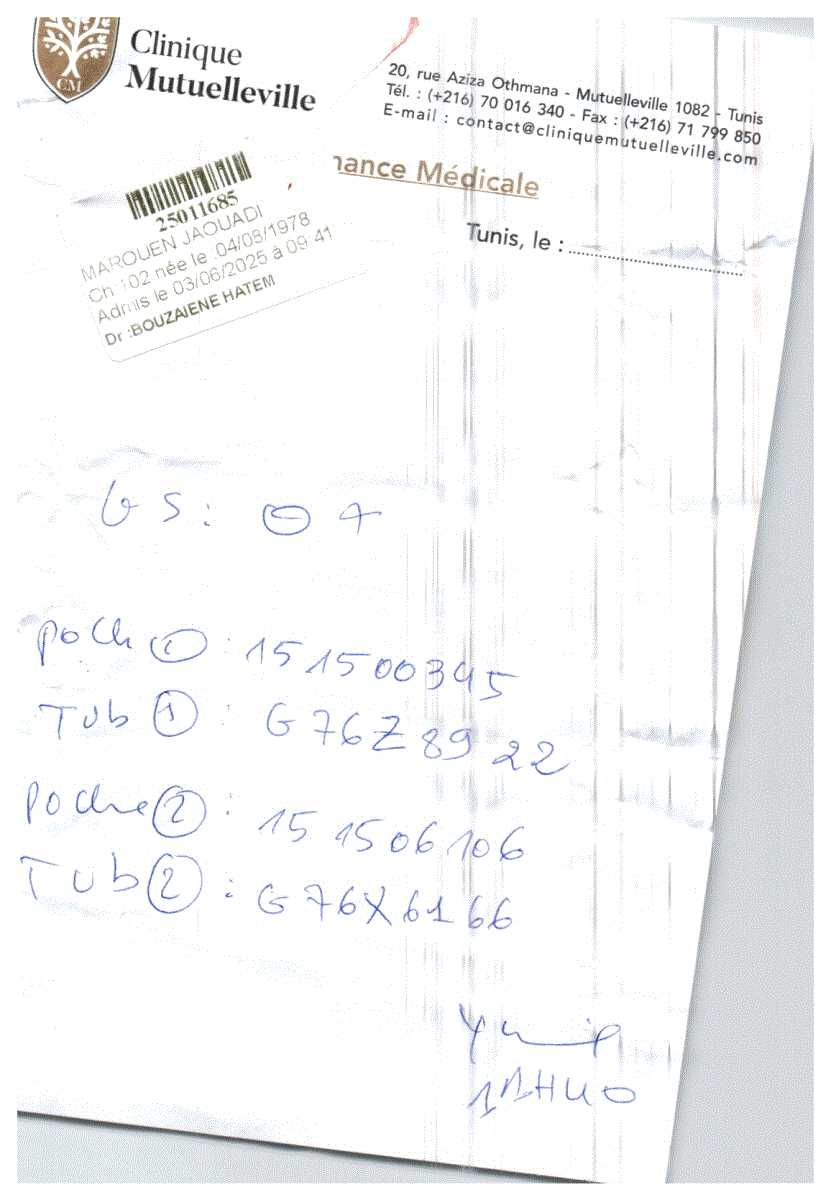zone_analyses: (9, 407, 690, 1134)
zone_date: (168, 283, 280, 300)
zone_patient: (77, 269, 275, 293)
zone_prescripteur: (375, 51, 783, 170), (272, 261, 301, 450)
